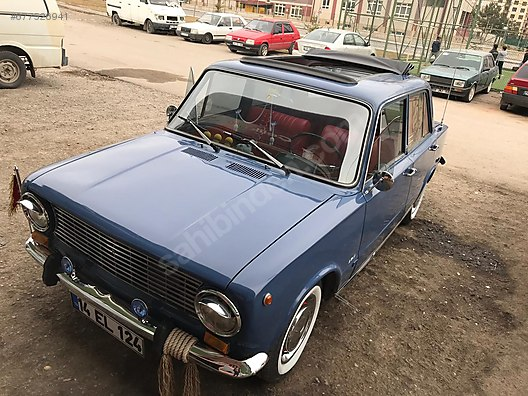murat: (19, 50, 428, 380)
